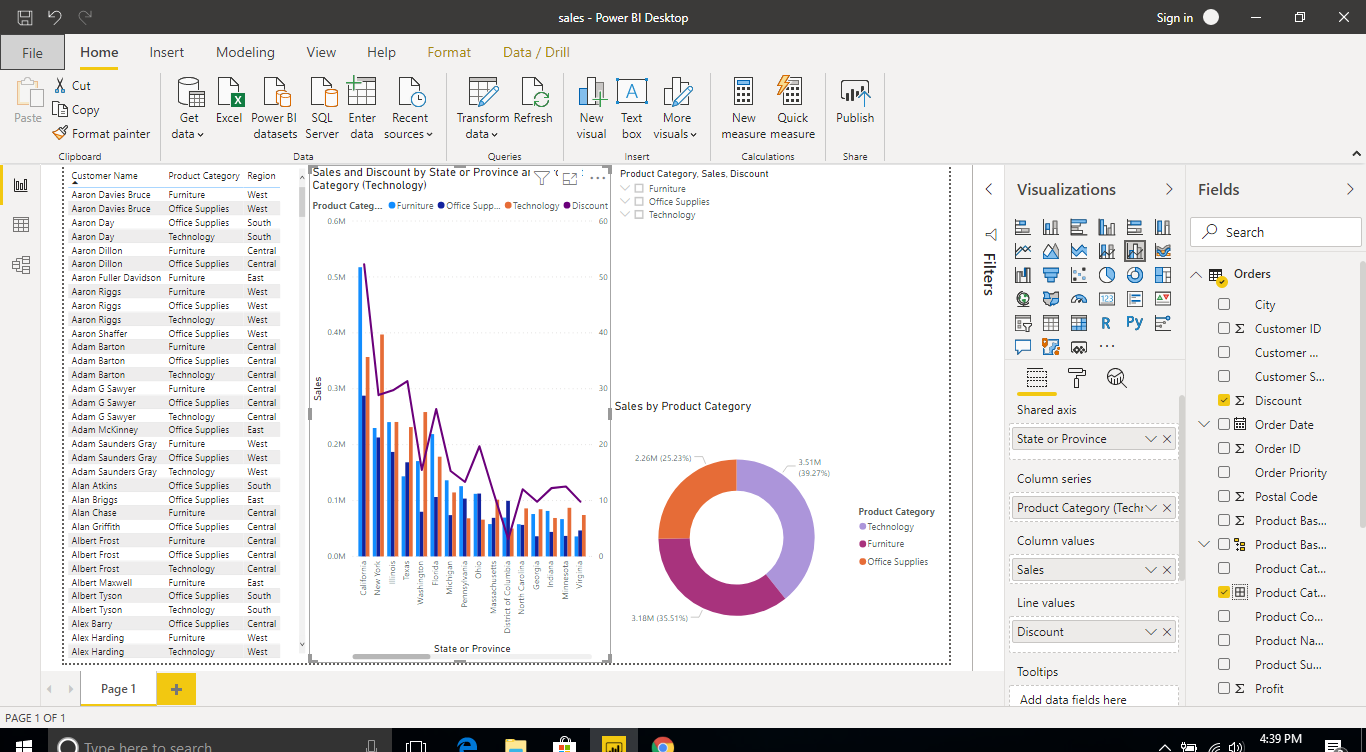

What the dashboard file says about the page in this screenshot:
{"tool":"powerbi","page":{"name":"Page 1","canvas":[1280,720],"ordinal":0},"visuals":[{"type":"tableEx","fields":{"Values":["Orders.Customer Name","Orders.Product Category","Orders.Region"]},"box":[0,0,354.2,720],"z":0},{"type":"donutChart","fields":{"Category":["Orders.Product Category"],"Y":["Orders.Sales"]},"box":[790.8,338.3,488.7,381.7],"z":1000},{"type":"slicer","fields":{"Values":["Orders.Product Category","Orders.Sales","Orders.Discount"]},"box":[790.8,0,488.7,338.3],"z":3000},{"type":"lineClusteredColumnComboChart","fields":{"Y":["Orders.Sales"],"Y2":["Orders.Discount"],"Category":["Orders.State or Province"],"Series":["Orders.Product Category (Technology)"]},"box":[354.2,0,436.6,720],"z":3001}]}

Visuals, with their boxes on the page's 1280x720 design canvas (x1, y1, x2, y2). These are canvas units, not pixel positions in the 1366x752 screenshot, which may show the page scaled, cropped or inside an application window:
tableEx - Orders.Customer Name x Orders.Product Category: detection(0, 0, 354, 720)
donutChart - Orders.Product Category x Orders.Sales: detection(791, 338, 1280, 720)
slicer - Orders.Product Category x Orders.Sales: detection(791, 0, 1280, 338)
lineClusteredColumnComboChart - Orders.Sales x Orders.Discount: detection(354, 0, 791, 720)
